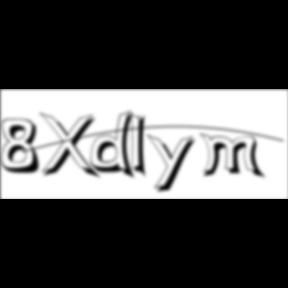8: (1, 117, 46, 176)
X: (39, 112, 103, 182)
d: (91, 110, 141, 182)
l: (130, 108, 154, 182)
m: (200, 132, 268, 181)
y: (147, 132, 201, 196)
